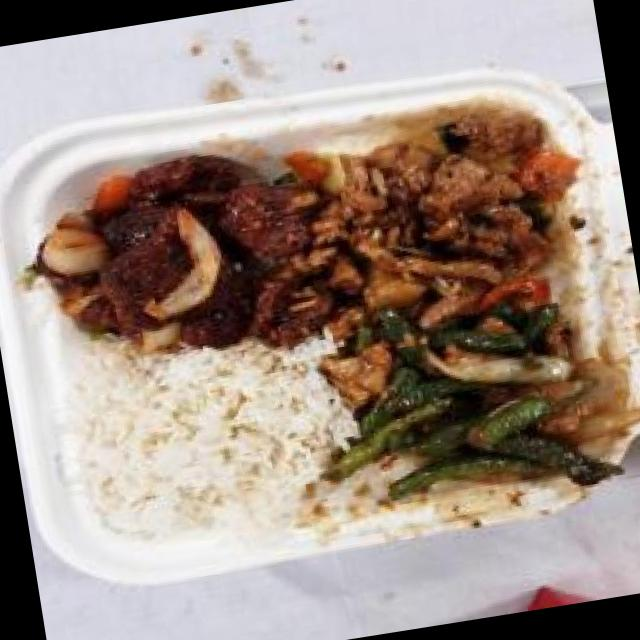Beijing Beef: (18, 125, 337, 378)
Kung Pao Chicken: (284, 84, 594, 333)
String Bean Chicken Breast: (334, 282, 620, 516)
White Steamed Rice: (61, 324, 352, 558)
